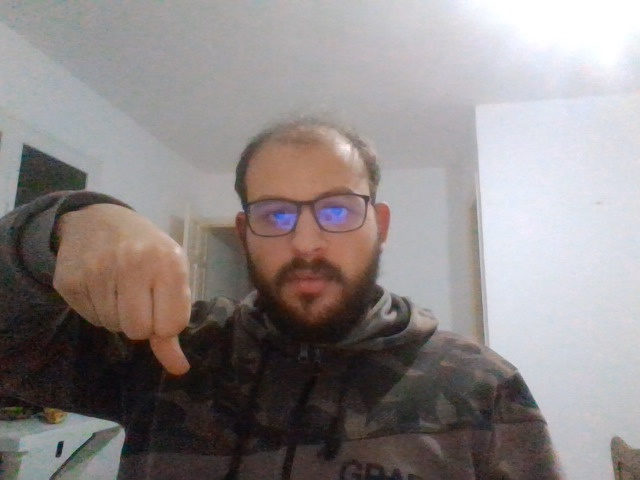Yes: (53, 235, 195, 376)
